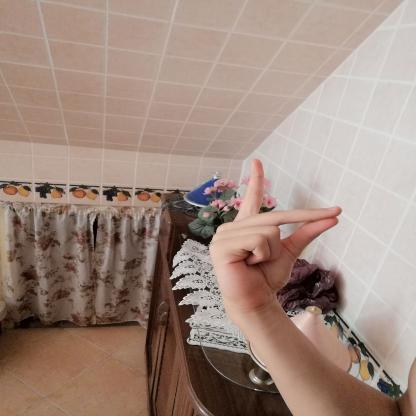TAA: (196, 152, 356, 319)
